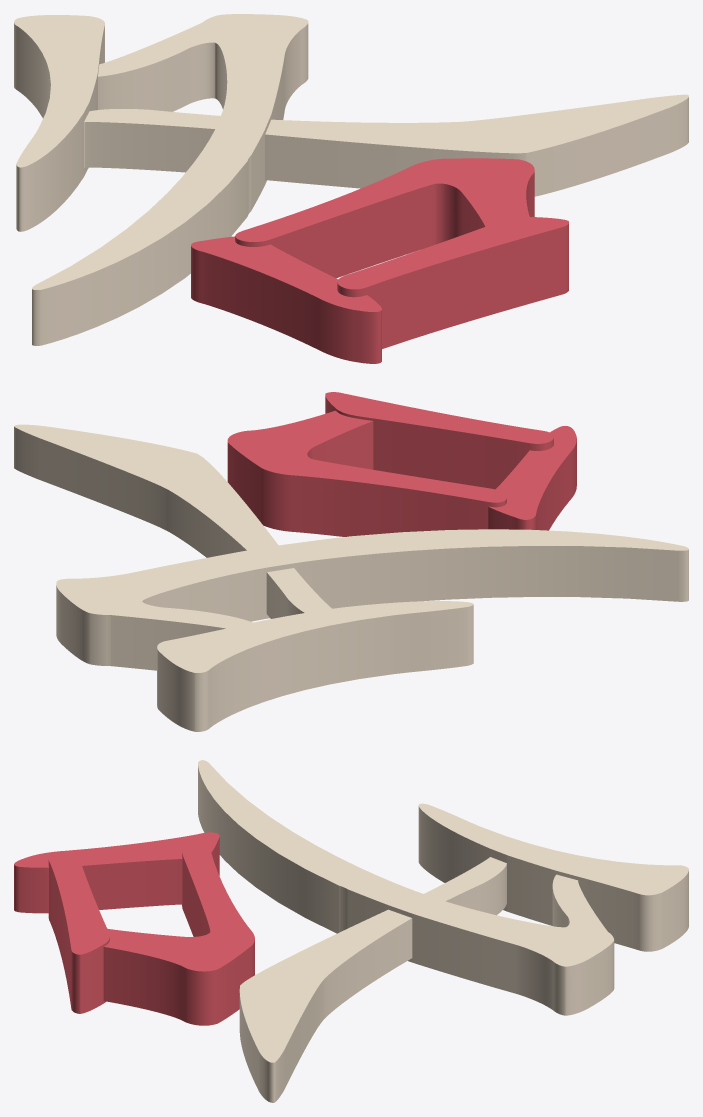
Rendered from hanzi78.fbx.
3 views of the same model, one above another, from view 1: azimuth 30°, elevation 25°; view 2: azimuth 150°, elevation 25°; view 3: azimuth 270°, elevation 25° (orthographic). The views are drawn at different scales.
Visible parts, largest first — view 1: Curve.001, Curve.002, Curve.004, Curve.005, Curve, Curve.003; view 2: Curve.001, Curve, Curve.004, Curve.002, Curve.005, Curve.003; view 3: Curve.001, Curve.002, Curve, Curve.004, Curve.003, Curve.005.
Boxes of the visible parts, box(x1,y1,x2,y2) form: Curve.001: box(32, 14, 308, 345); Curve.002: box(84, 94, 688, 196); Curve.004: box(235, 158, 534, 278); Curve.005: box(337, 216, 568, 348); Curve: box(14, 15, 104, 231); Curve.003: box(191, 236, 381, 363); Curve.001: box(56, 529, 688, 670); Curve: box(157, 601, 473, 731); Curve.004: box(227, 410, 506, 536); Curve.002: box(14, 424, 331, 618); Curve.005: box(325, 392, 553, 489); Curve.003: box(488, 426, 576, 530); Curve.001: box(198, 760, 614, 1015); Curve.002: box(239, 857, 506, 1102); Curve: box(418, 803, 688, 951); Curve.004: box(103, 844, 254, 1025); Curve.003: box(14, 832, 219, 913); Curve.005: box(48, 853, 109, 1013).
Size of the model in its own units: 25.83 by 24.7 by 2.39.
